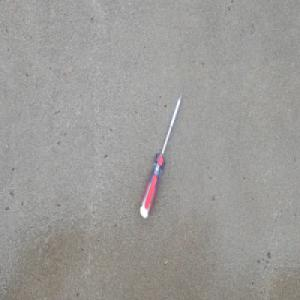Screwdriver: (138, 91, 184, 220)
